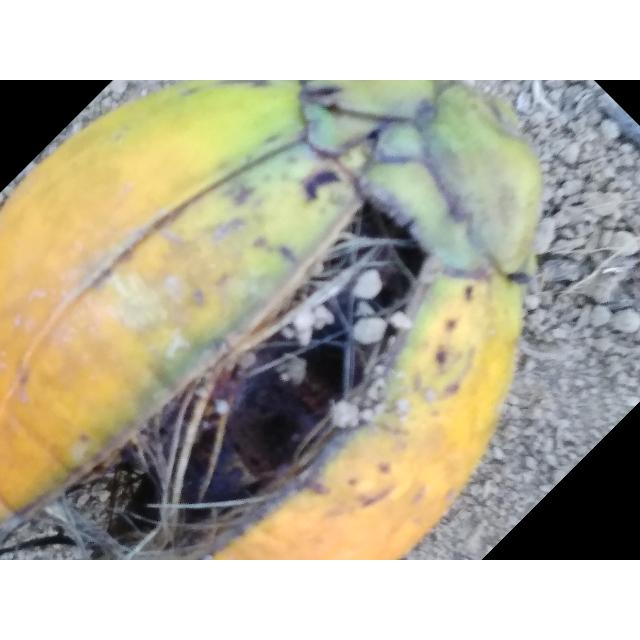damaged: (0, 80, 542, 560)
